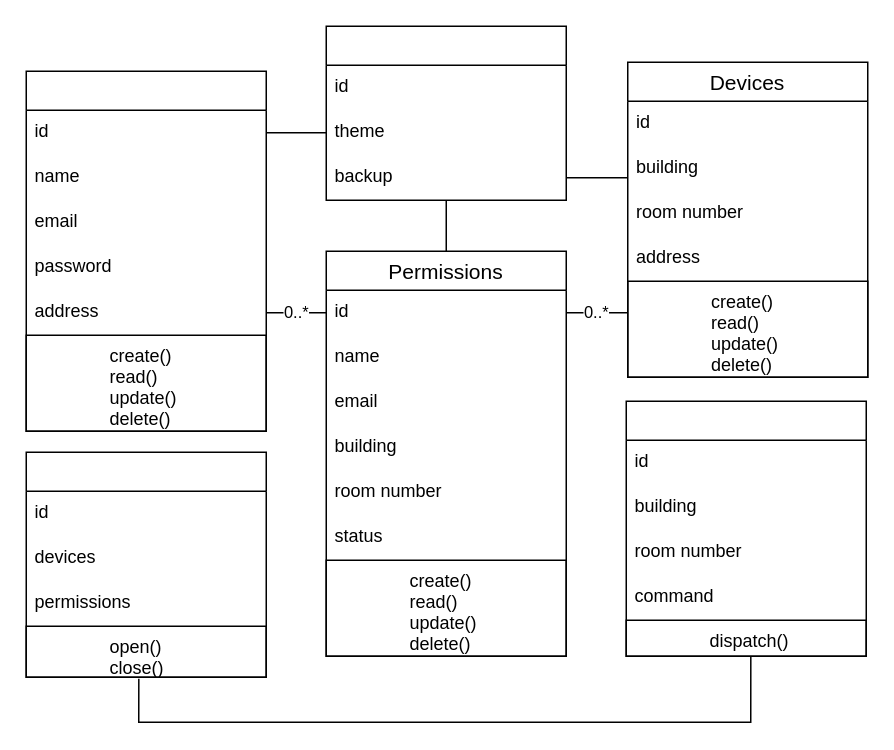
Some shapes in this 894 by 750 pixel diagram are drawn without their labels. Here are the shapes that lost their labels. From the top down, the box of each, then its label:
(325, 25, 566, 200): Settings
(25, 70, 266, 431): Users
(625, 400, 866, 656): Gatekeeper
(25, 451, 266, 677): Remote control
